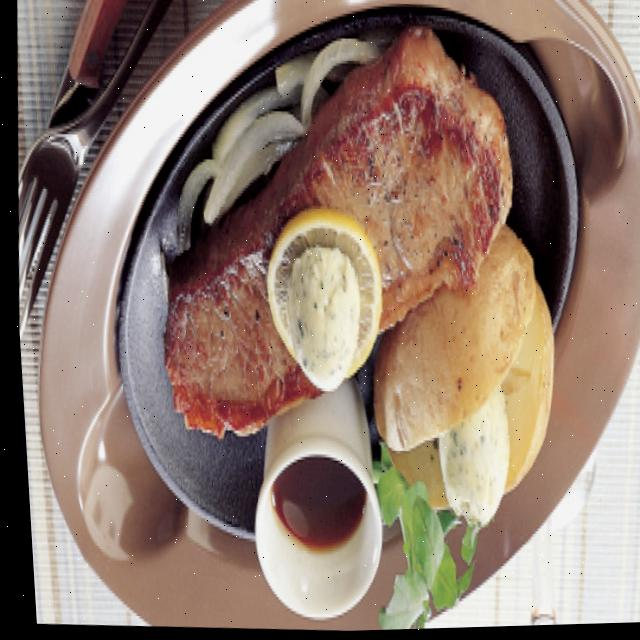牛肉菜式: (137, 0, 539, 467)
